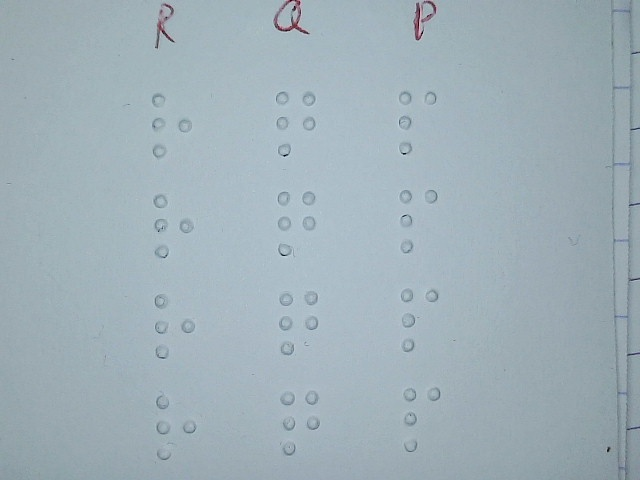P: (394, 87, 439, 155), (396, 186, 441, 254), (397, 285, 442, 353), (399, 384, 444, 452)
Q: (273, 89, 318, 157), (274, 188, 319, 256), (276, 288, 321, 356), (278, 387, 323, 455)
R: (149, 92, 194, 160), (151, 192, 196, 260), (152, 291, 197, 359), (153, 392, 198, 460)
